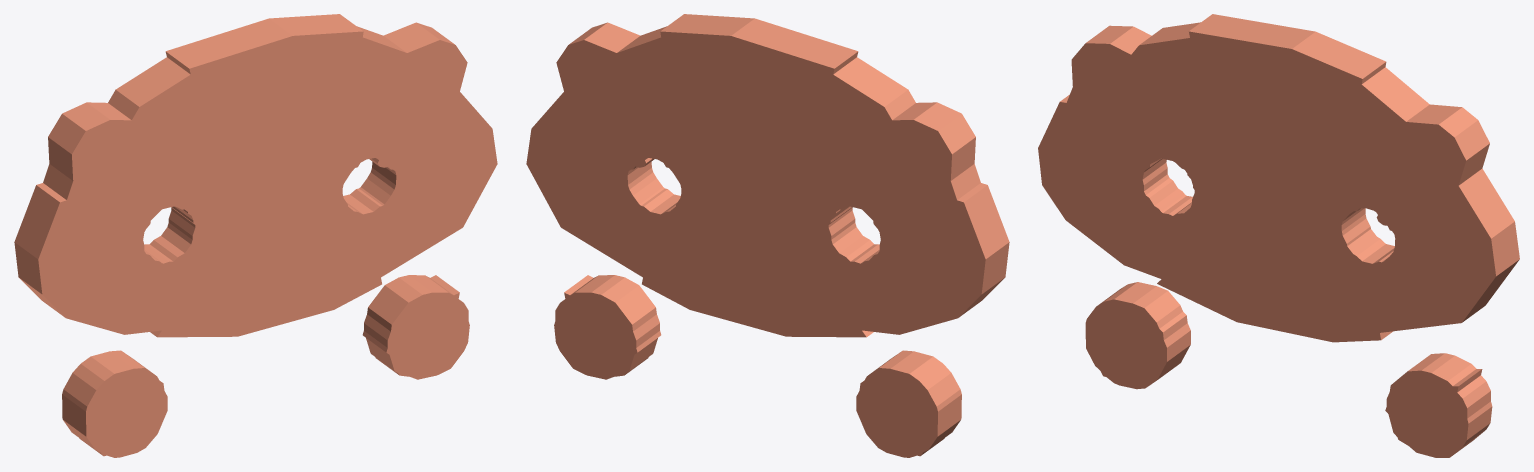
Rendered from meerkats.glb.
3 views of the same model, side by side, from view 1: azimuth 30°, elevation 25°; view 2: azimuth 150°, elevation 25°; view 3: azimuth 330°, elevation 25° (orthographic).
Parts seen in each view (by area): view 1: geometry_0; view 2: geometry_0; view 3: geometry_0.
Part boxes in pixels (x1=…): geometry_0: x1=14, y1=14, x2=497, y2=457; geometry_0: x1=526, y1=14, x2=1009, y2=457; geometry_0: x1=1038, y1=14, x2=1519, y2=457.
Size of the model in its own units: 1 by 0.7895 by 0.09.
